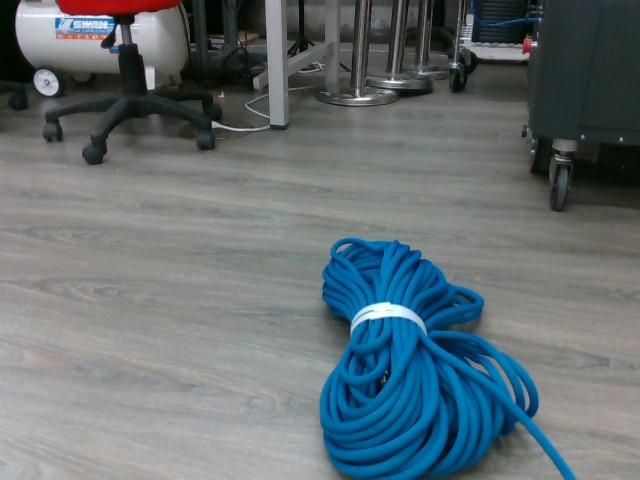rope: (314, 232, 540, 480)
